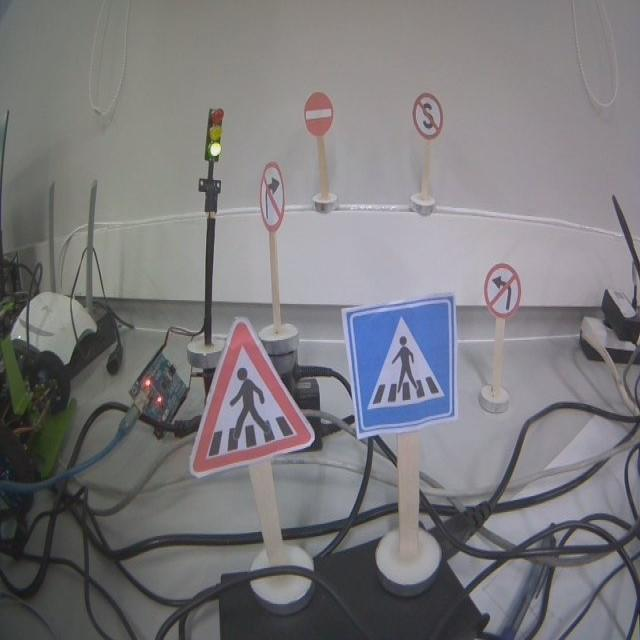Dilarang Belok Kanan: (260, 164, 284, 229)
Dilarang Belok Kiri: (483, 264, 520, 316)
Dilarang Masuk: (303, 92, 332, 136)
Lampu Hijau: (204, 108, 223, 161)
Rambu Berhenti: (412, 92, 443, 139)
Rambu Penyebrangan: (187, 317, 314, 476), (343, 294, 458, 434)
